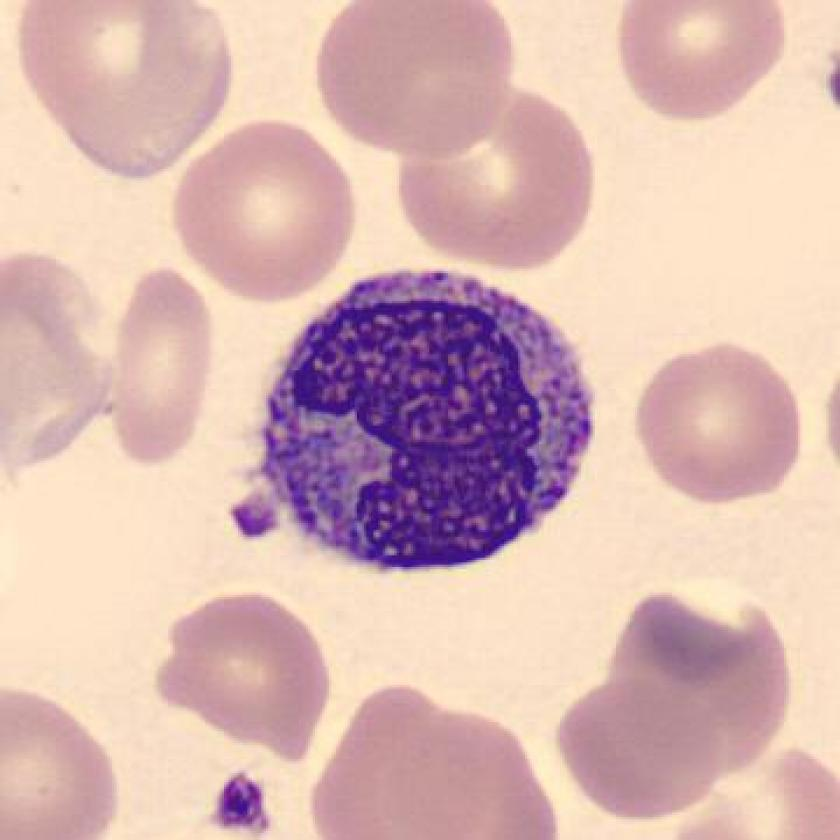monocyte: (244, 254, 617, 594)
